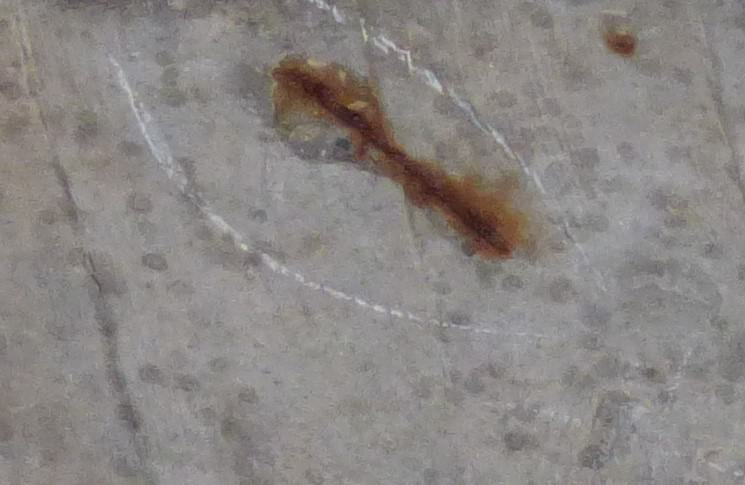Corrosion: (605, 30, 637, 58)
Exposed reinforcement: (284, 69, 511, 259)
Spalling: (268, 52, 390, 176)
